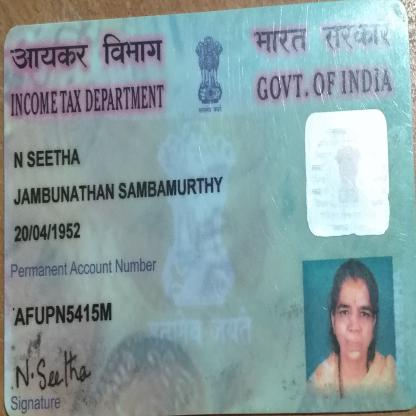pan_card: (0, 10, 415, 414)
